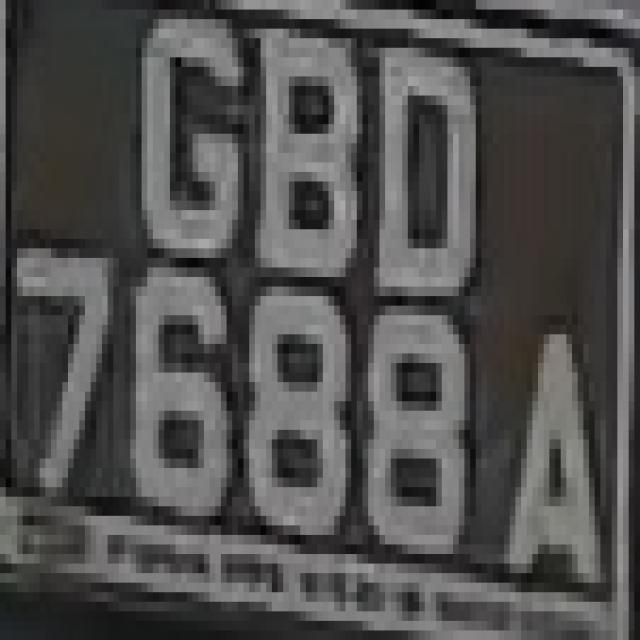6: (113, 258, 227, 554)
7: (6, 210, 108, 506)
8: (232, 258, 357, 554), (351, 296, 487, 564)
A: (4, 4, 6, 10)
B: (249, 10, 374, 296)
D: (363, 38, 487, 315)
G: (124, 10, 255, 296)
